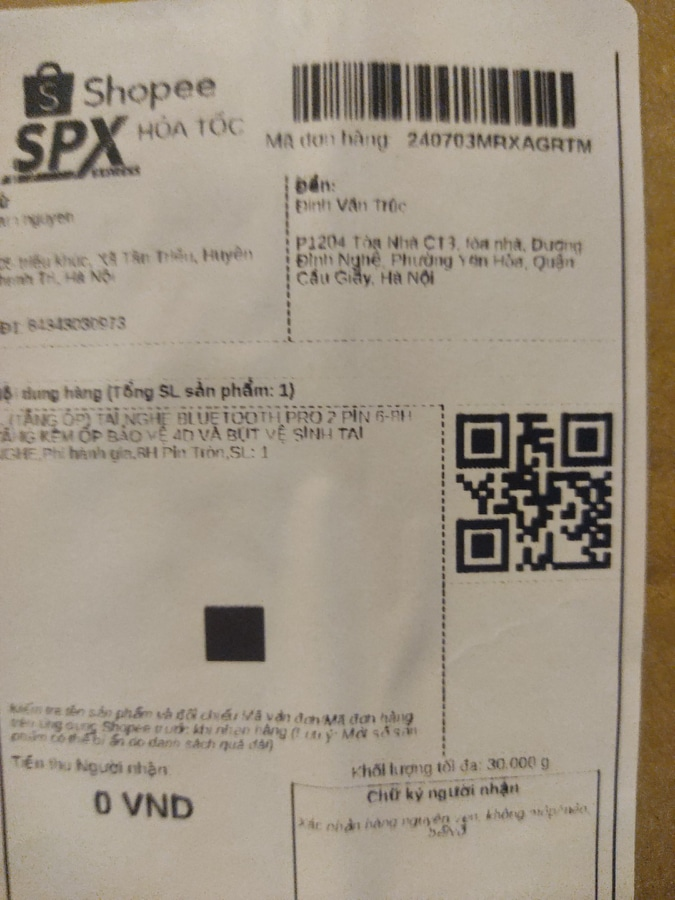pod: (9, 54, 634, 899)
